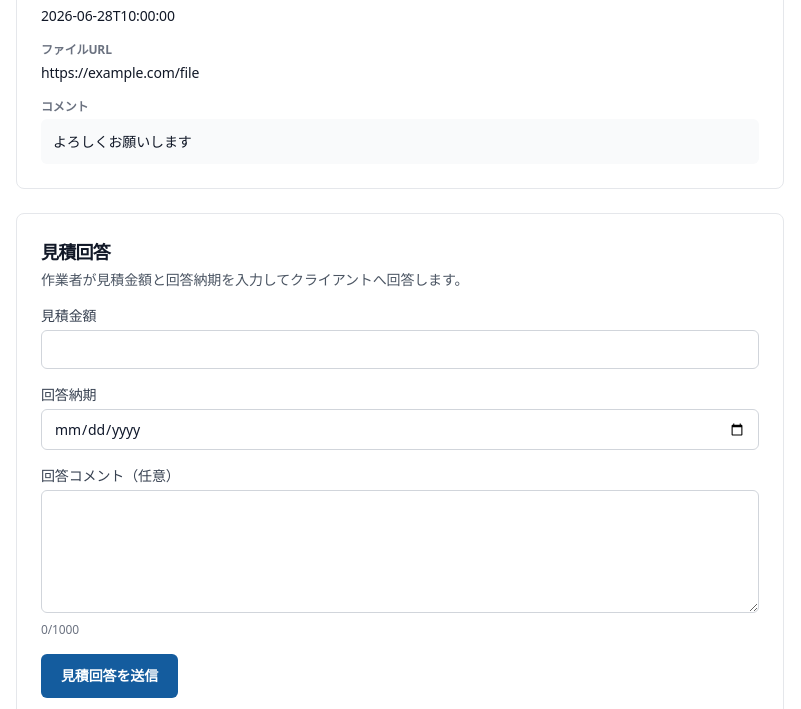
QuoteRequestDetailPage › 作業者が見積回答を送信できる
The width and height of the screenshot is (801, 709).
(page scrolled)
Type "50000" into the number field labelled "見積金額" at (400, 350), box [41,330,759,369]
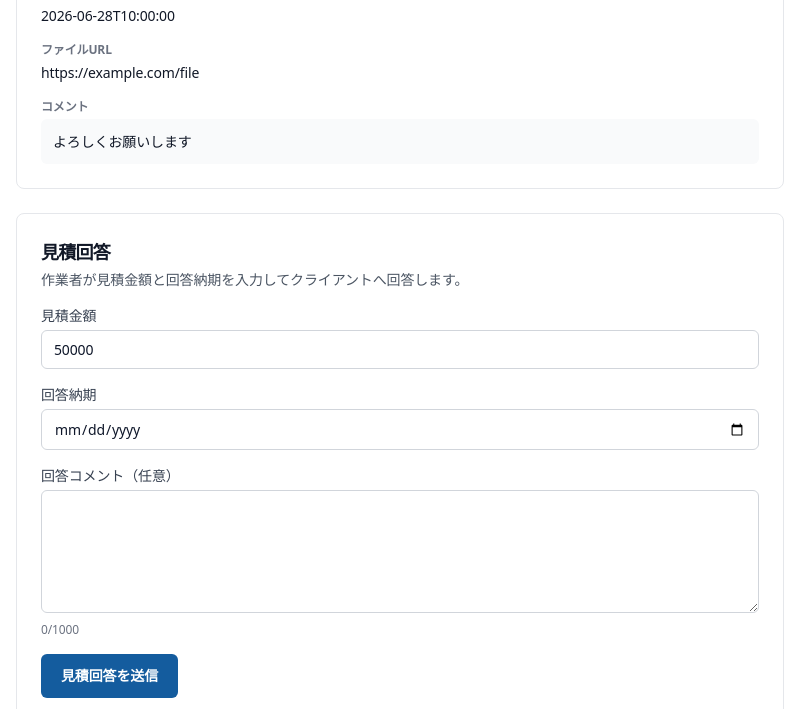
Type "2100-01-15" into the date field labelled "回答納期" at (400, 430), box [41,409,759,450]
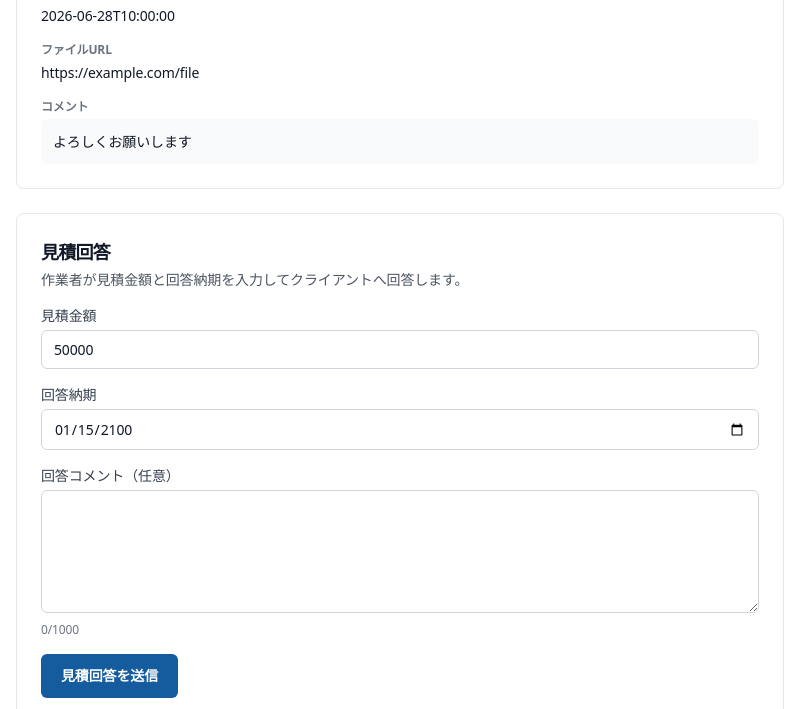
Type "通常納期です" into the text box labelled "回答コメント（任意）" at (400, 552), box [41,490,759,613]
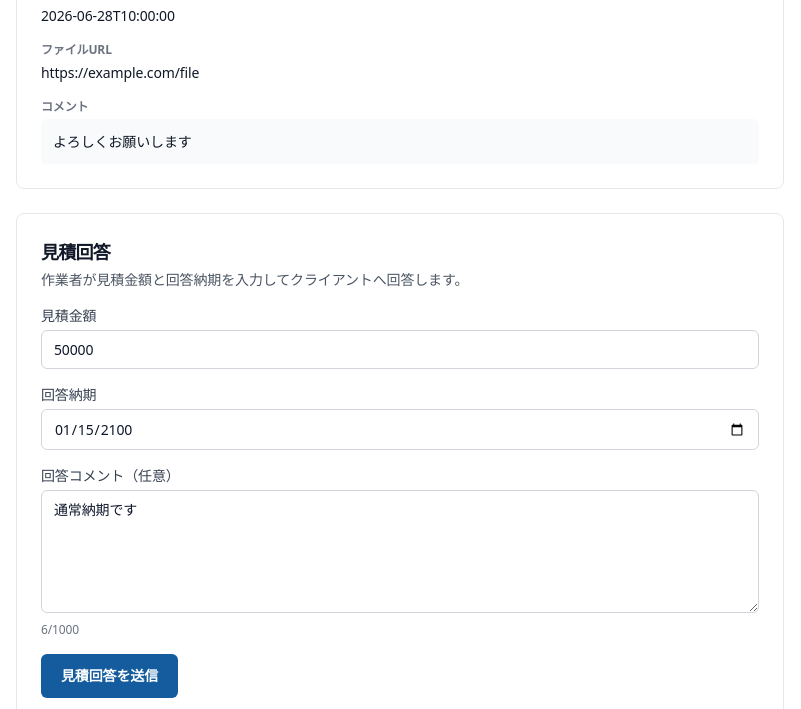
Submit the form "見積回答を送信", box [41,306,759,698]
(page scrolled)
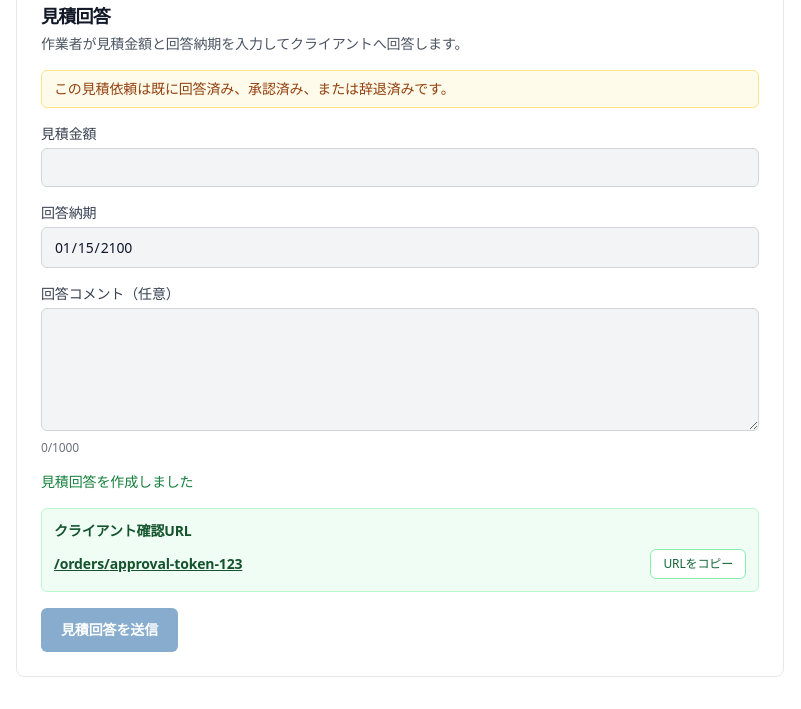
Now the text "見積回答を作成しました" is shown, box [41,472,194,491]
Now the link "/orders/approval-token-123" is shown, box [54,554,242,574]
